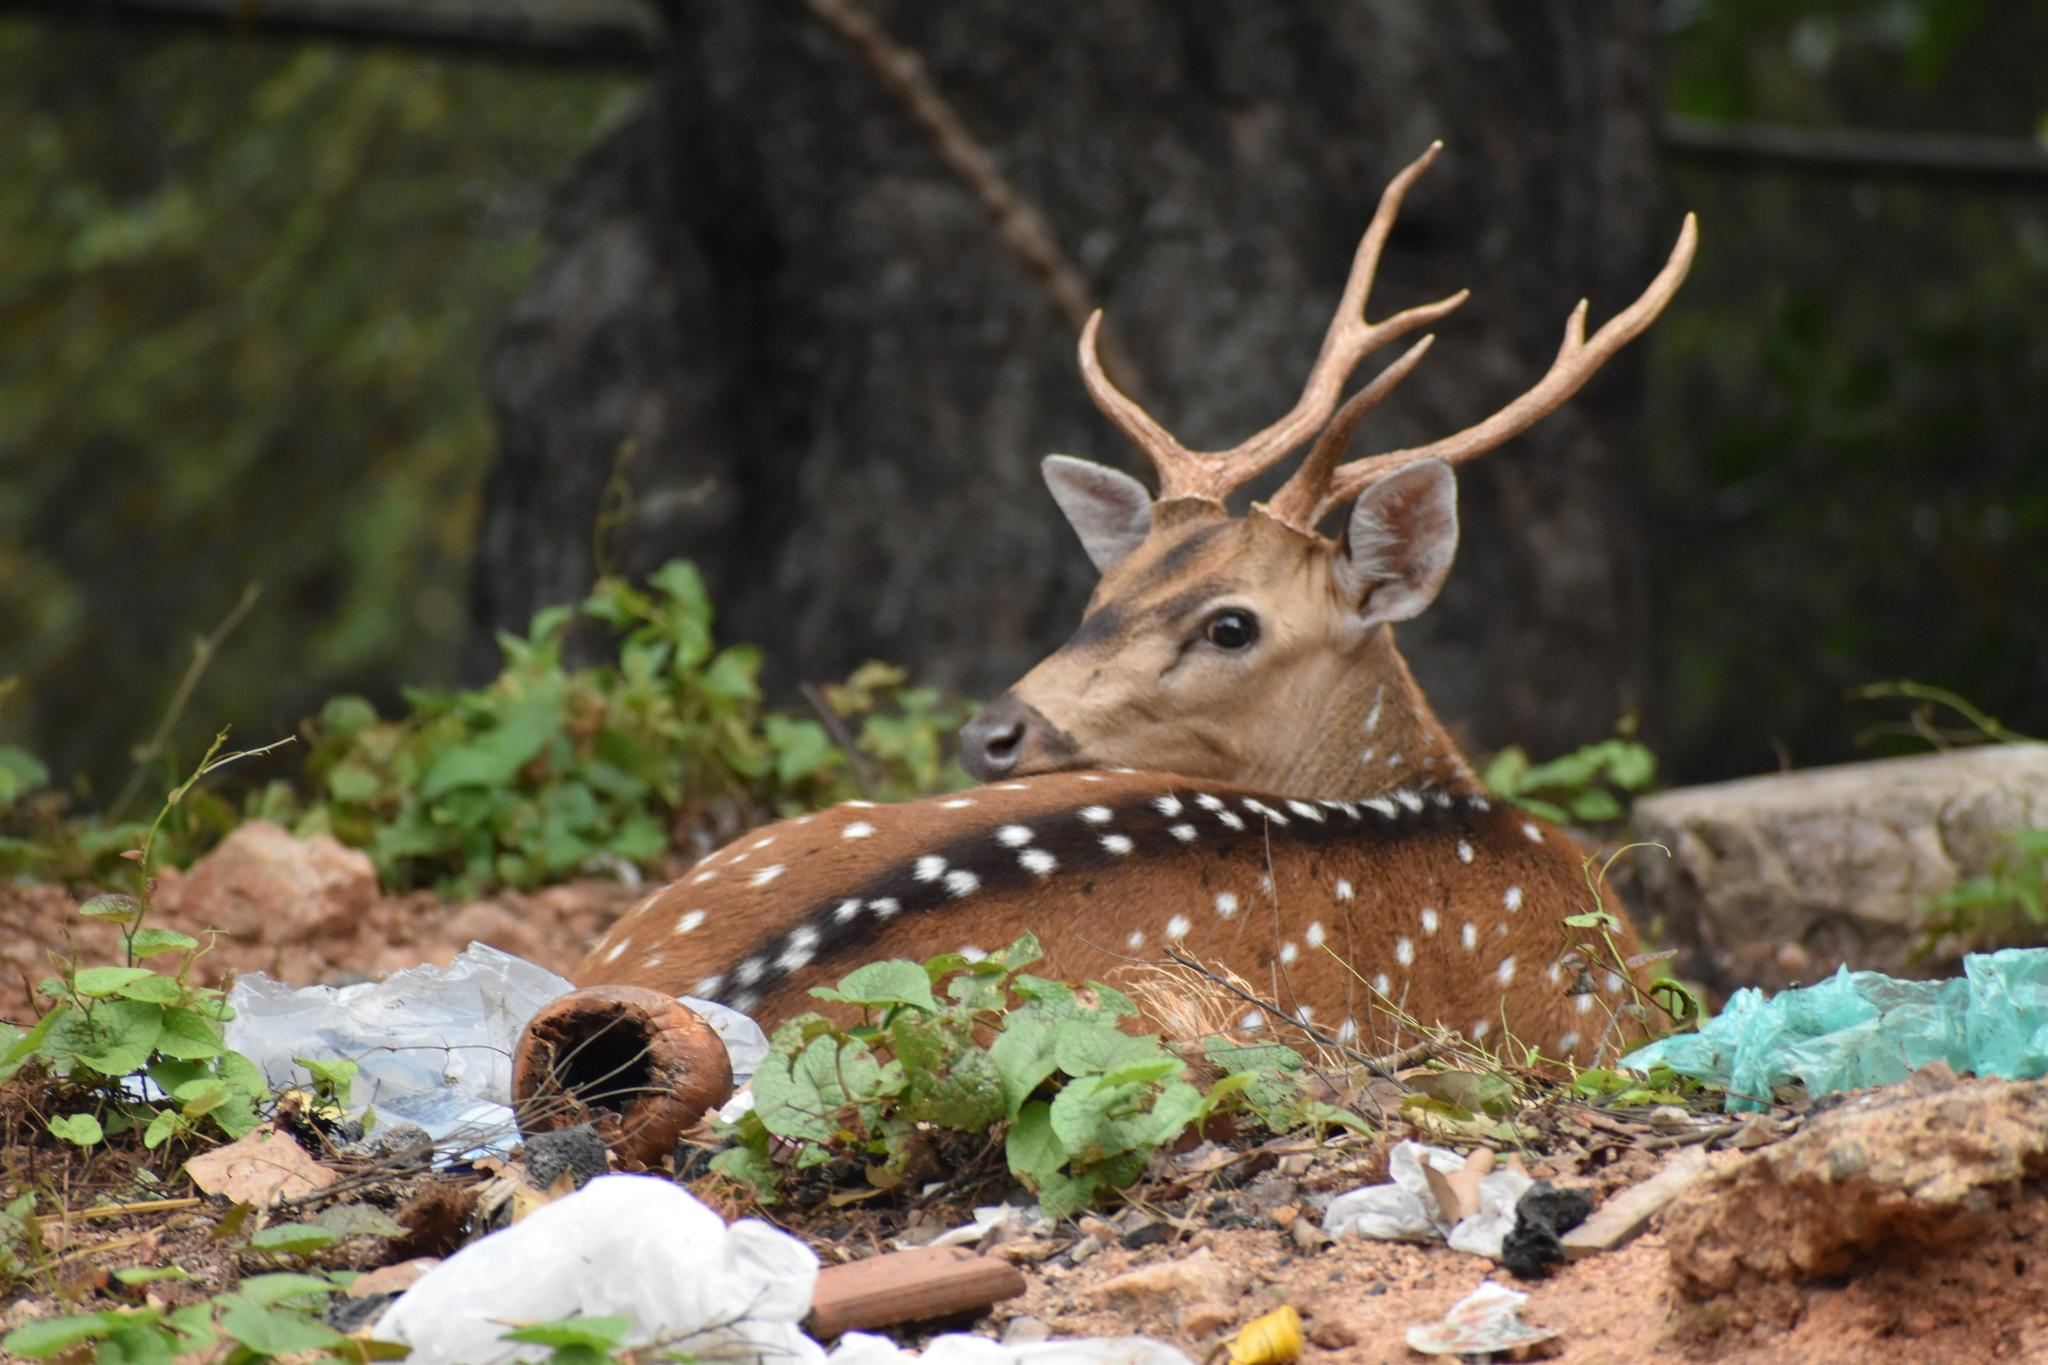Deer: (579, 143, 1695, 1059)
